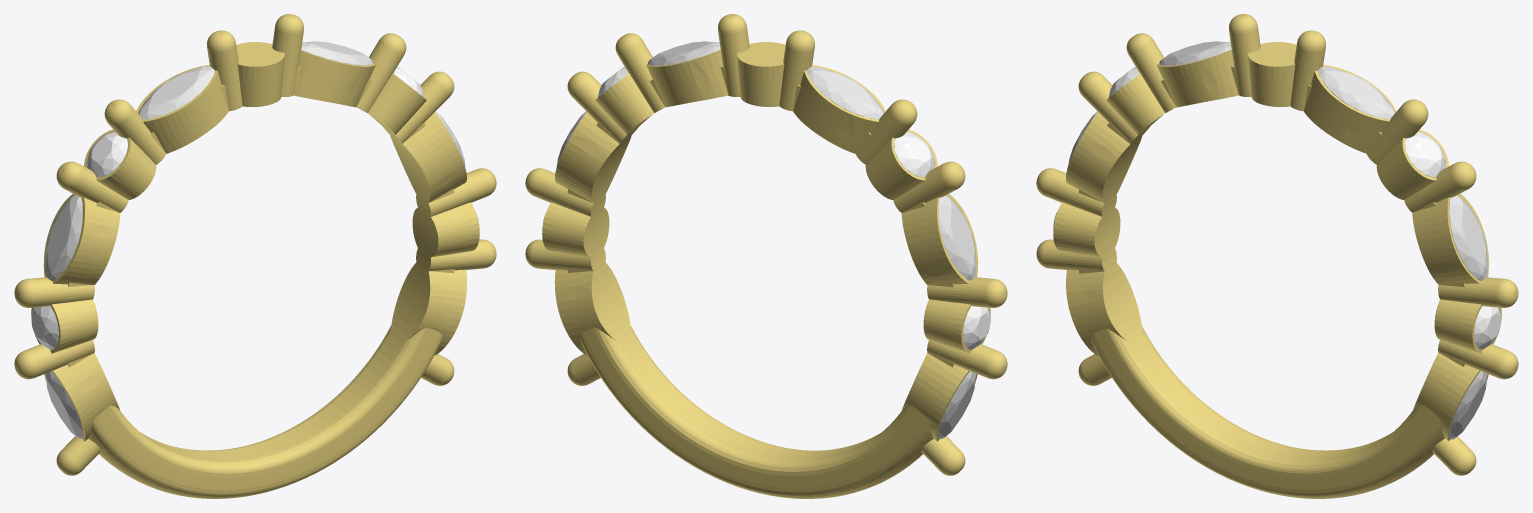
The model's file is MAR_MA_019_SHANK.glb.
3 views of the same model, side by side, from view 1: azimuth 30°, elevation 25°; view 2: azimuth 150°, elevation 25°; view 3: azimuth 330°, elevation 25° (orthographic).
Visible parts, largest first — view 1: MAR_MA_019_NEW_STL.stl.001, post_node, marquise.010, marquise.011, all-diamonds.1217, marquise.7, marquise.009, all-diamonds.001; view 2: MAR_MA_019_NEW_STL.stl.001, post_node, marquise.010, marquise.011, all-diamonds.1217, marquise.7, marquise.009, all-diamonds.001; view 3: MAR_MA_019_NEW_STL.stl.001, post_node, marquise.012, marquise.009, all-diamonds.002, marquise.008, marquise.011, all-diamonds.003.
Part boxes in pixels (x1=…): MAR_MA_019_NEW_STL.stl.001: x1=14, y1=33, x2=496, y2=498; post_node: x1=207, y1=14, x2=303, y2=111; marquise.010: x1=45, y1=195, x2=82, y2=281; marquise.011: x1=138, y1=66, x2=214, y2=119; all-diamonds.1217: x1=86, y1=132, x2=127, y2=177; marquise.7: x1=45, y1=371, x2=82, y2=438; marquise.009: x1=301, y1=41, x2=373, y2=65; all-diamonds.001: x1=31, y1=306, x2=58, y2=349; MAR_MA_019_NEW_STL.stl.001: x1=525, y1=33, x2=1007, y2=498; post_node: x1=718, y1=14, x2=814, y2=111; marquise.010: x1=938, y1=195, x2=976, y2=280; marquise.011: x1=806, y1=66, x2=883, y2=119; all-diamonds.1217: x1=894, y1=132, x2=935, y2=177; marquise.7: x1=938, y1=371, x2=976, y2=438; marquise.009: x1=647, y1=41, x2=720, y2=65; all-diamonds.001: x1=963, y1=306, x2=990, y2=349; MAR_MA_019_NEW_STL.stl.001: x1=1036, y1=33, x2=1518, y2=498; post_node: x1=1229, y1=14, x2=1325, y2=111; marquise.012: x1=1449, y1=195, x2=1488, y2=281; marquise.009: x1=1318, y1=66, x2=1395, y2=119; all-diamonds.002: x1=1405, y1=132, x2=1445, y2=177; marquise.008: x1=1449, y1=371, x2=1487, y2=439; marquise.011: x1=1159, y1=41, x2=1231, y2=65; all-diamonds.003: x1=1474, y1=306, x2=1501, y2=349.
Size of the model in its own units: 24.33 by 22.73 by 2.6.
